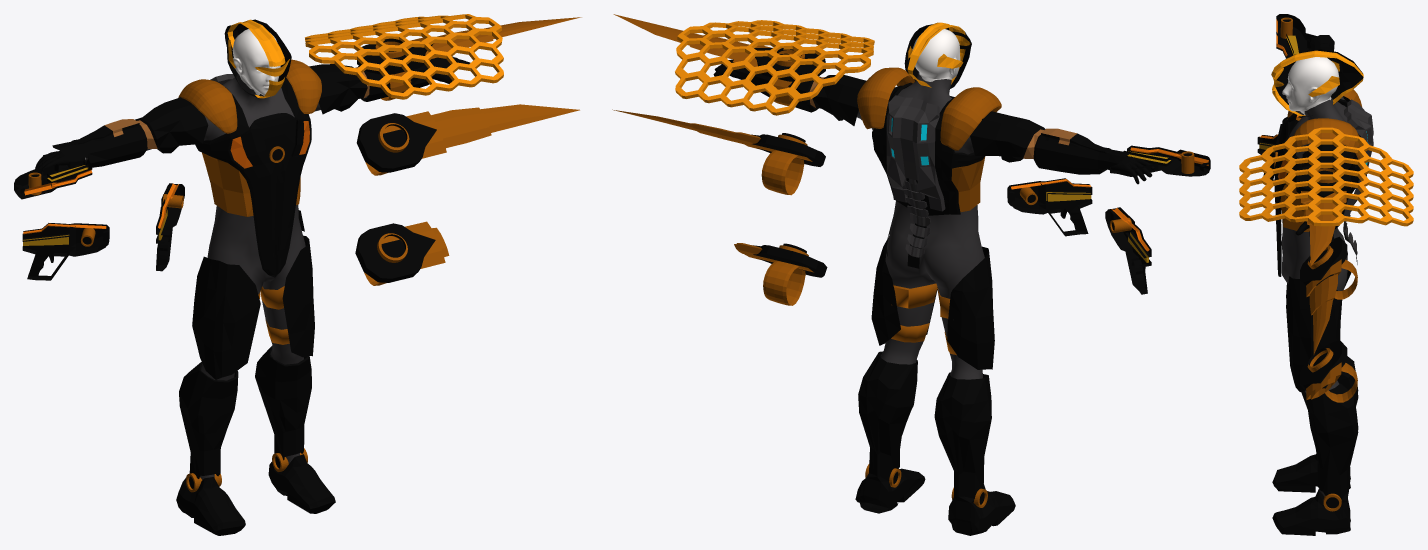
Rendered from uploads_files_2986407_v2.dae.
The picture shows the model from 3 angles, left to right: view 1: azimuth 30°, elevation 25°; view 2: azimuth 150°, elevation 25°; view 3: azimuth 270°, elevation 25°; orthographic projection. The views are drawn at different scales.
Visible parts, largest first — view 1: Kostka.029, Kostka.025, Walec.013, Body_low.001, Kostka.030, Prostokąt.030, Kostka.043, Kostka.047, Walec.028, Kostka.028, Prostokąt.008, Prostokąt.028 (+13 smaller); view 2: Kostka.029, Walec.013, Body_low.001, Prostokąt.030, Kostka.024, Kostka.030, Walec.031, Kostka.025, Kostka.047, Kostka.043, Prostokąt.008, Prostokąt.032 (+10 smaller); view 3: Walec.013, Kostka.029, Kostka.028, Body_low.001, Prostokąt.028, Body_low, Kostka.047, Kostka.043, Kostka.025, Walec.030, Prostokąt.004, Kostka.024 (+13 smaller).
Part boxes in pixels (bbox=[...]): Kostka.029: bbox=[176, 346, 335, 535]; Kostka.025: bbox=[195, 78, 311, 277]; Walec.013: bbox=[305, 14, 503, 99]; Body_low.001: bbox=[85, 73, 368, 479]; Kostka.030: bbox=[192, 256, 260, 379]; Prostokąt.030: bbox=[52, 97, 208, 167]; Kostka.043: bbox=[356, 113, 436, 175]; Kostka.047: bbox=[355, 223, 435, 285]; Walec.028: bbox=[22, 223, 109, 280]; Kostka.028: bbox=[282, 235, 314, 357]; Prostokąt.008: bbox=[309, 57, 449, 114]; Prostokąt.028: bbox=[224, 19, 291, 98]; Kostka.029: bbox=[855, 351, 1015, 535]; Walec.013: bbox=[675, 20, 874, 115]; Body_low.001: bbox=[857, 72, 984, 379]; Prostokąt.030: bbox=[970, 111, 1130, 174]; Kostka.024: bbox=[886, 95, 945, 211]; Kostka.030: bbox=[947, 246, 994, 369]; Walec.031: bbox=[1007, 178, 1092, 236]; Kostka.025: bbox=[872, 82, 984, 215]; Kostka.047: bbox=[753, 243, 827, 305]; Kostka.043: bbox=[751, 133, 825, 195]; Prostokąt.008: bbox=[731, 59, 866, 125]; Prostokąt.032: bbox=[940, 87, 1001, 150]; Walec.013: bbox=[1239, 127, 1413, 226]; Kostka.029: bbox=[1272, 356, 1358, 535]; Kostka.028: bbox=[1286, 276, 1342, 391]; Body_low.001: bbox=[1281, 96, 1347, 500]; Prostokąt.028: bbox=[1271, 49, 1363, 116]; Body_low: bbox=[1282, 57, 1339, 115]; Kostka.047: bbox=[1300, 340, 1357, 402]; Kostka.043: bbox=[1300, 236, 1357, 299]; Kostka.025: bbox=[1274, 99, 1360, 276]; Walec.030: bbox=[1276, 14, 1316, 58]; Prostokąt.004: bbox=[1287, 118, 1361, 159]; Kostka.024: bbox=[1343, 99, 1373, 216].
Bounding box in the file's own units: 23.95 × 6.63 × 19.09.
